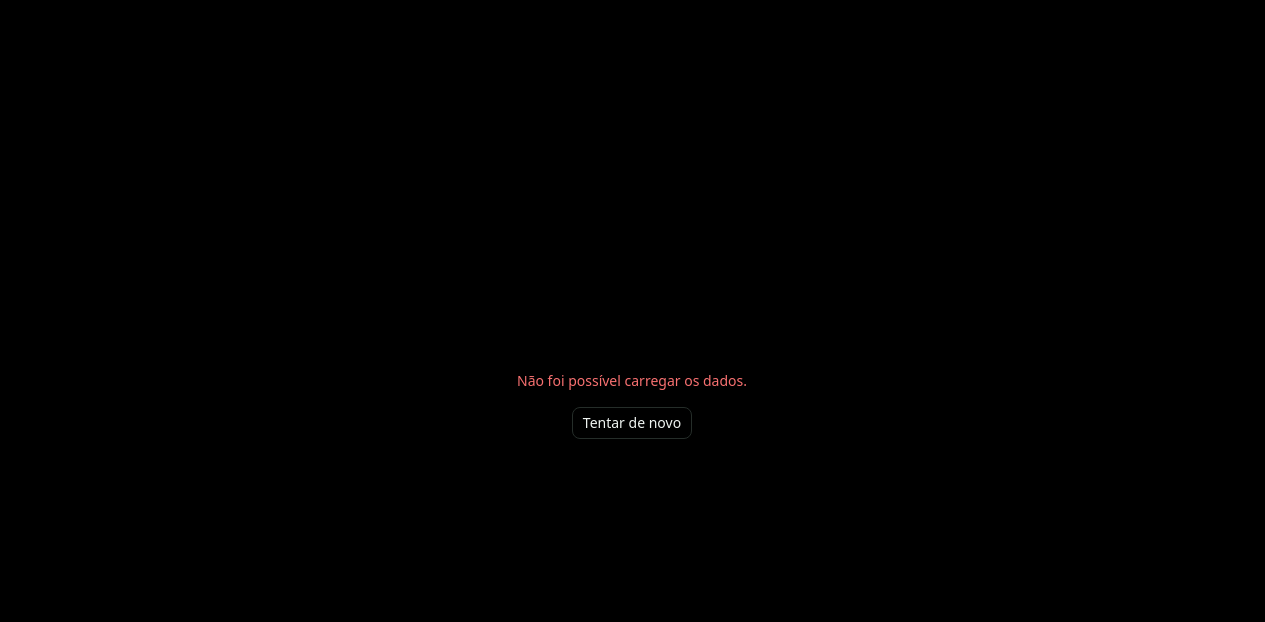
login e acesso › falha ao carregar dados mostra erro; "Tentar de novo" volta a "Carregando…" antes do app
Later steps or results of the test are not shown.
Expected: the text "Não foi possível carregar os dados." is shown, [517, 371, 747, 391]
What coordinates should you click on to do the following:
click the button "Tentar de novo"
I would click on:
 (632, 423)
Its box is [572, 407, 692, 439].
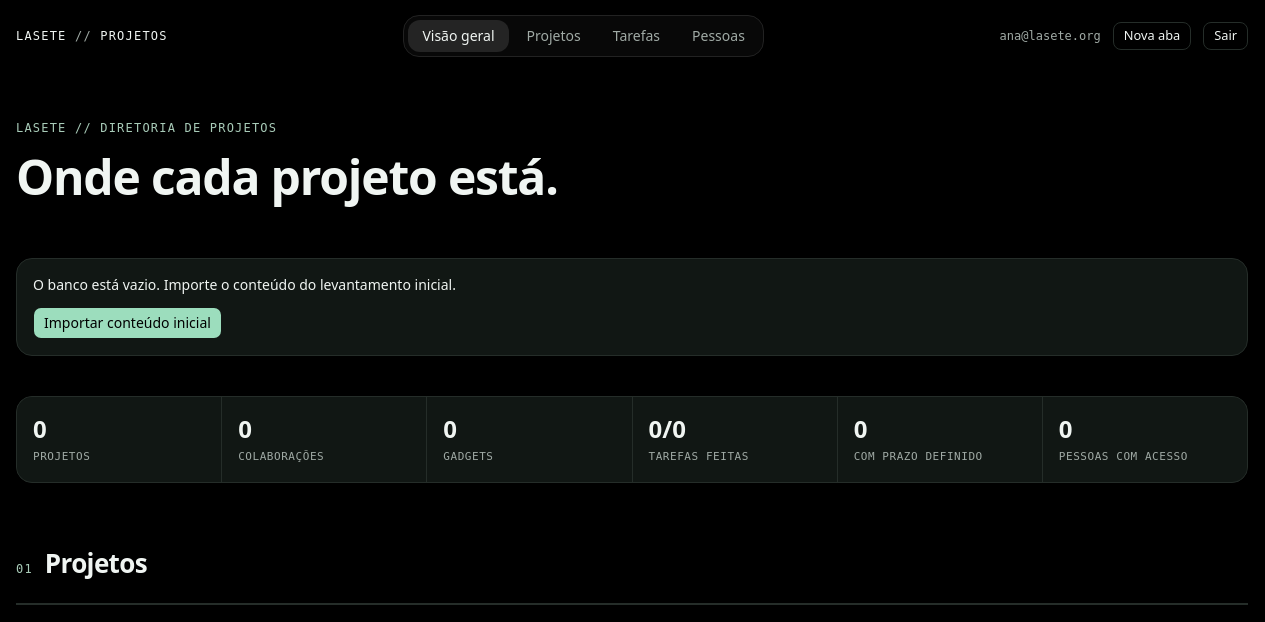
Expected: the text "Não foi possível carregar os dados." is gone
Expected: the text "Visão geral" is shown, [422, 26, 495, 44]
